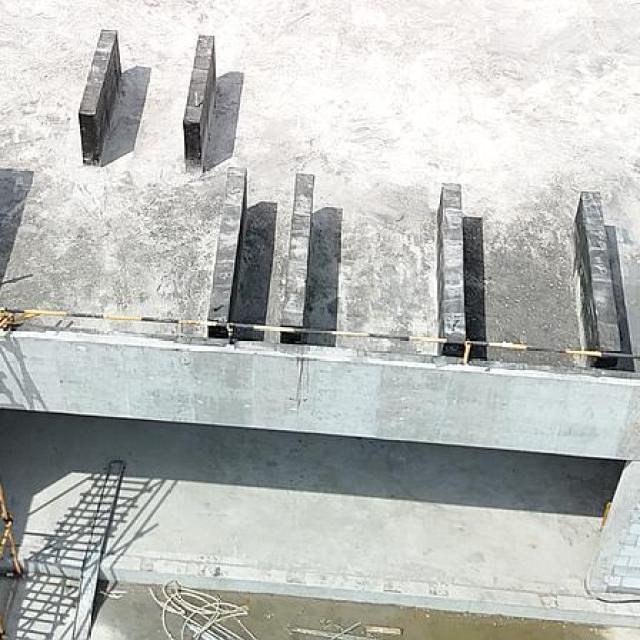edge_guardrail: (0, 306, 640, 361)
